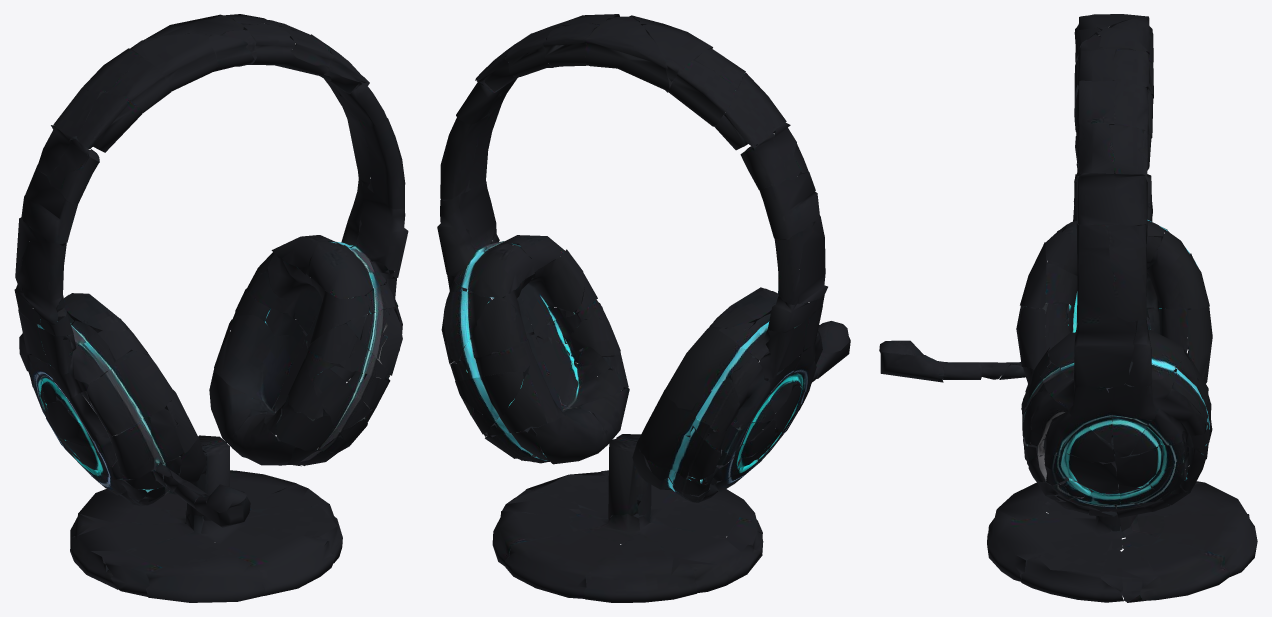
The model's file is co_headset.glb.
3 views of the same model, side by side, from view 1: azimuth 30°, elevation 25°; view 2: azimuth 150°, elevation 25°; view 3: azimuth 270°, elevation 25° (orthographic).
Parts seen in each view (by area): view 1: Mesh_0; view 2: Mesh_0; view 3: Mesh_0.
Boxes of the visible parts, <box> form: Mesh_0: <box>14,14,408,602</box>; Mesh_0: <box>437,14,850,602</box>; Mesh_0: <box>879,14,1257,602</box>.
Size of the model in its own units: 1.37 by 1.9 by 1.27.
Materials: 1 (1 with a texture image).
